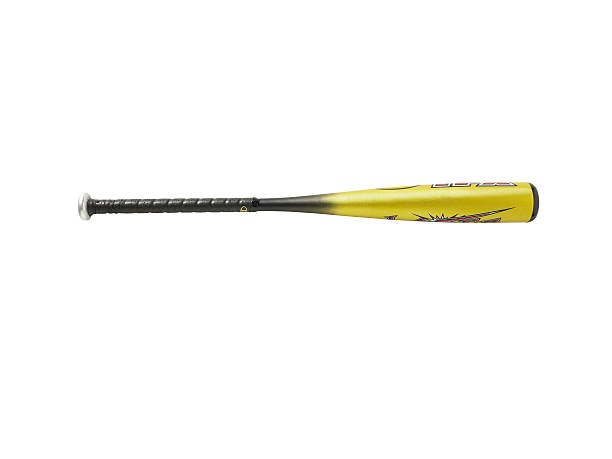bita: (75, 182, 540, 229)
